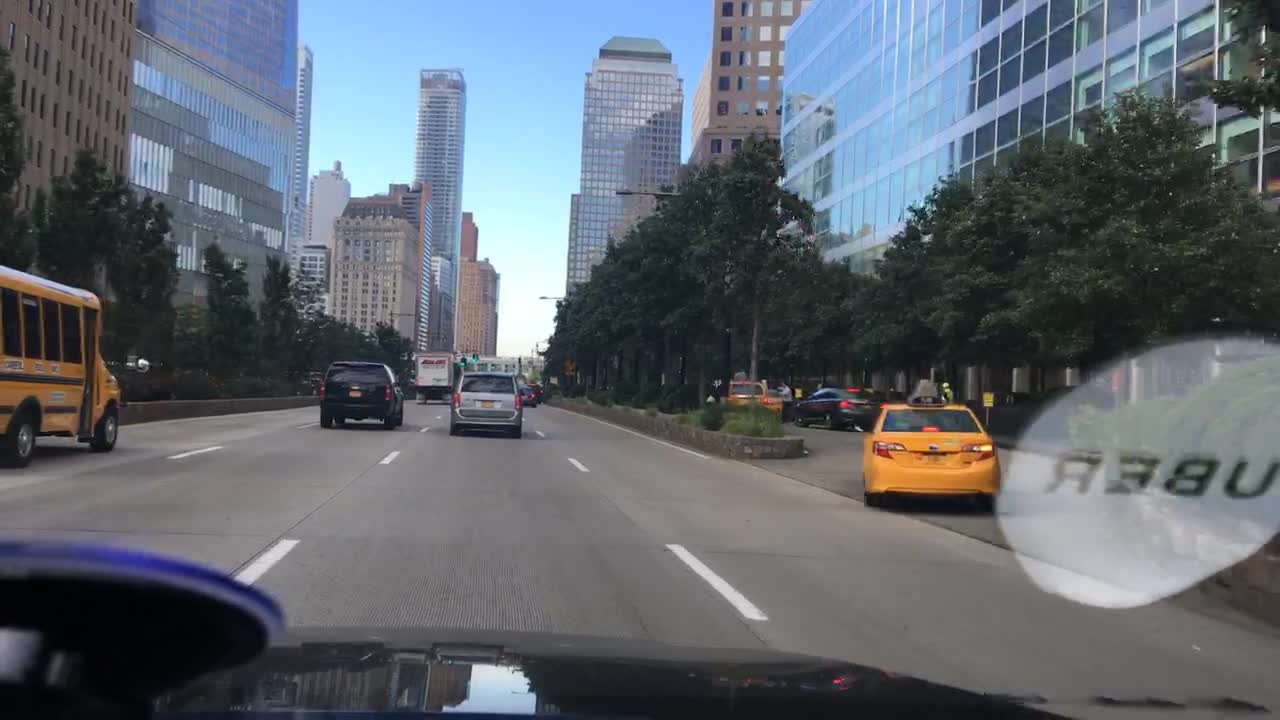bus: (1, 264, 125, 470)
car: (859, 378, 1004, 509), (319, 360, 403, 431), (449, 371, 524, 440), (794, 386, 883, 426), (716, 369, 761, 406), (759, 381, 782, 414), (517, 386, 536, 406), (531, 381, 545, 398)
person: (777, 381, 793, 416)
traffic light: (457, 356, 466, 369)
truck: (413, 351, 454, 404)
